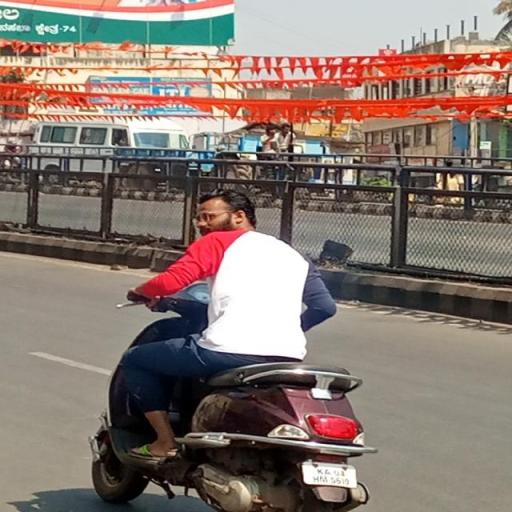bike: (90, 188, 381, 512)
withouthelmet: (198, 193, 252, 231)
